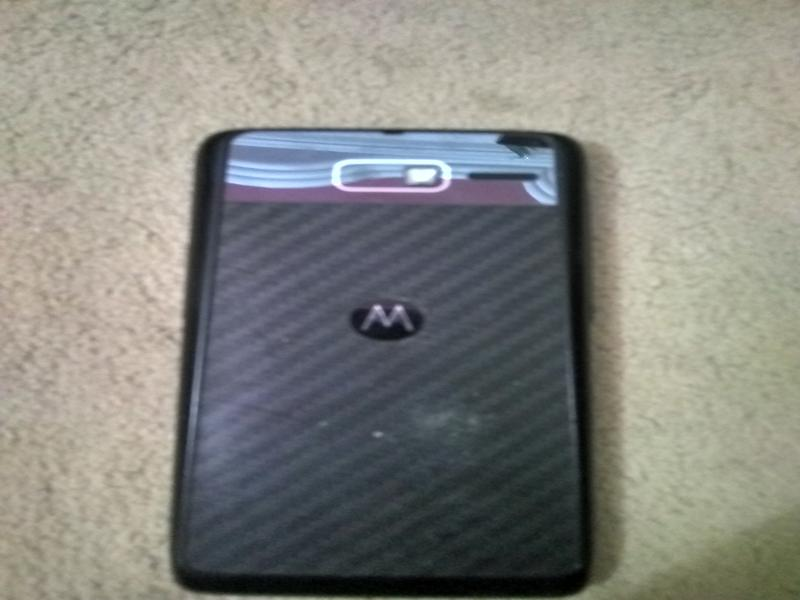moto: (157, 120, 601, 599)
